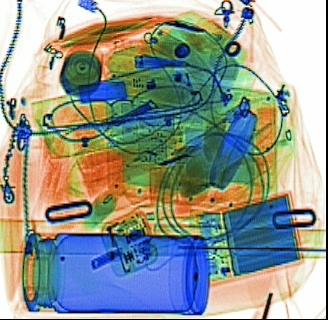powerbank: (194, 189, 304, 287)
